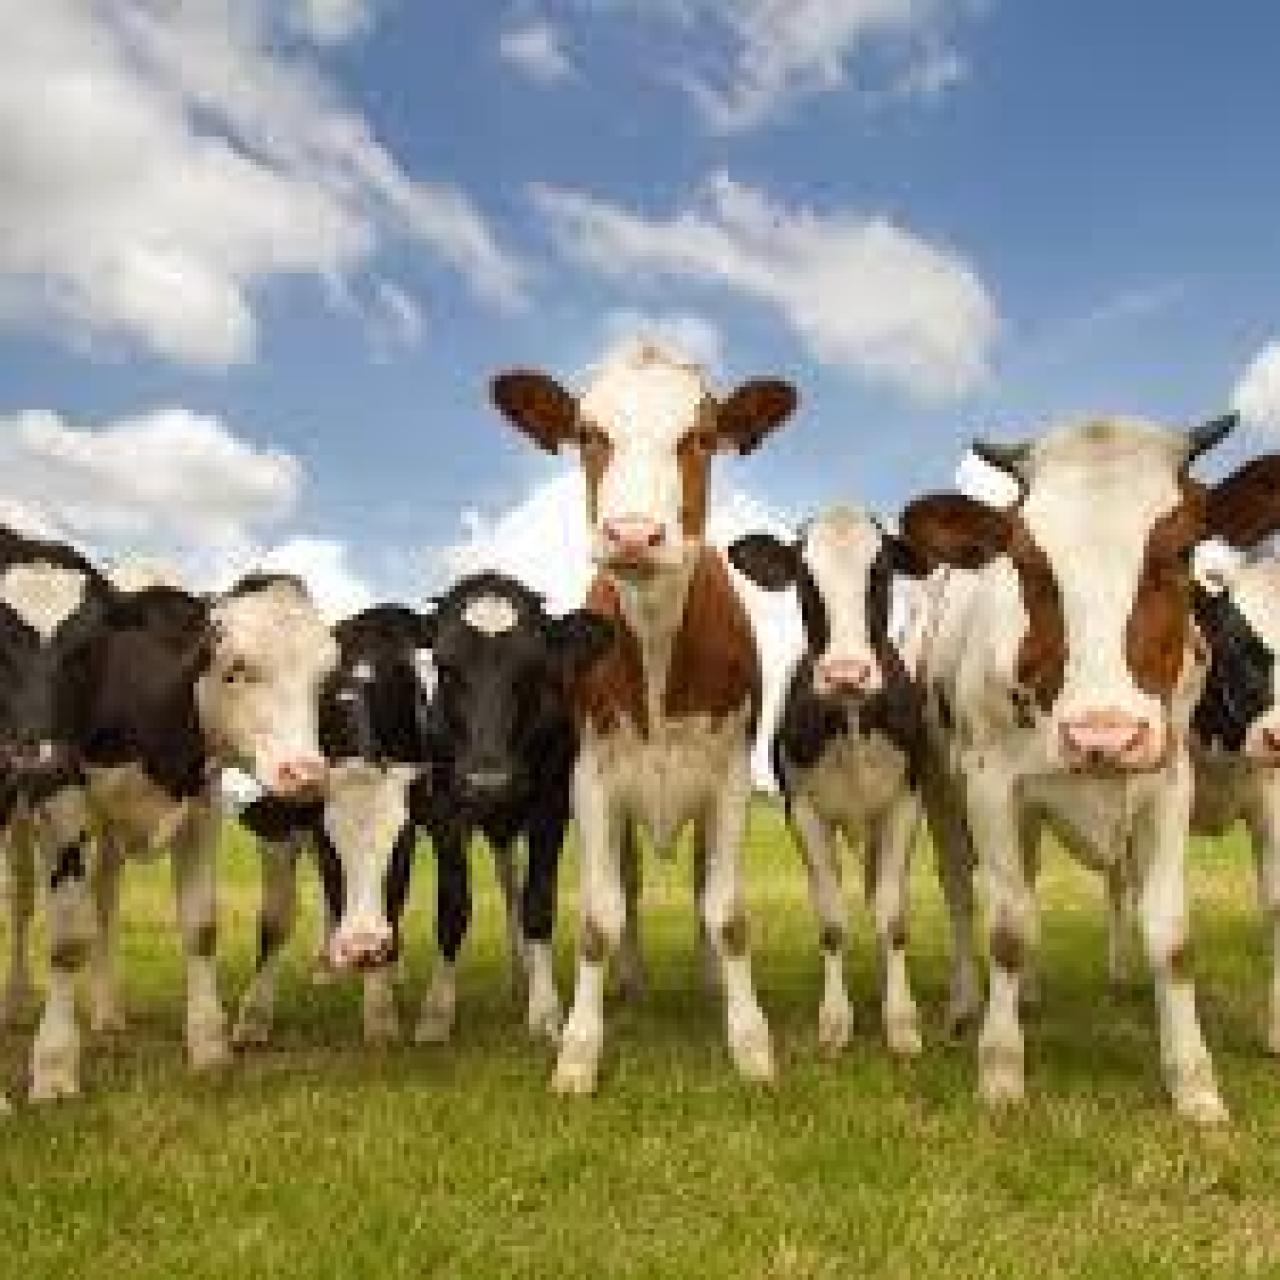cow: (904, 424, 1280, 1135), (486, 349, 794, 1089), (80, 572, 341, 1078), (731, 506, 941, 1058), (413, 566, 618, 1050), (233, 628, 449, 1055), (0, 520, 114, 1107), (1175, 554, 1278, 1049)
